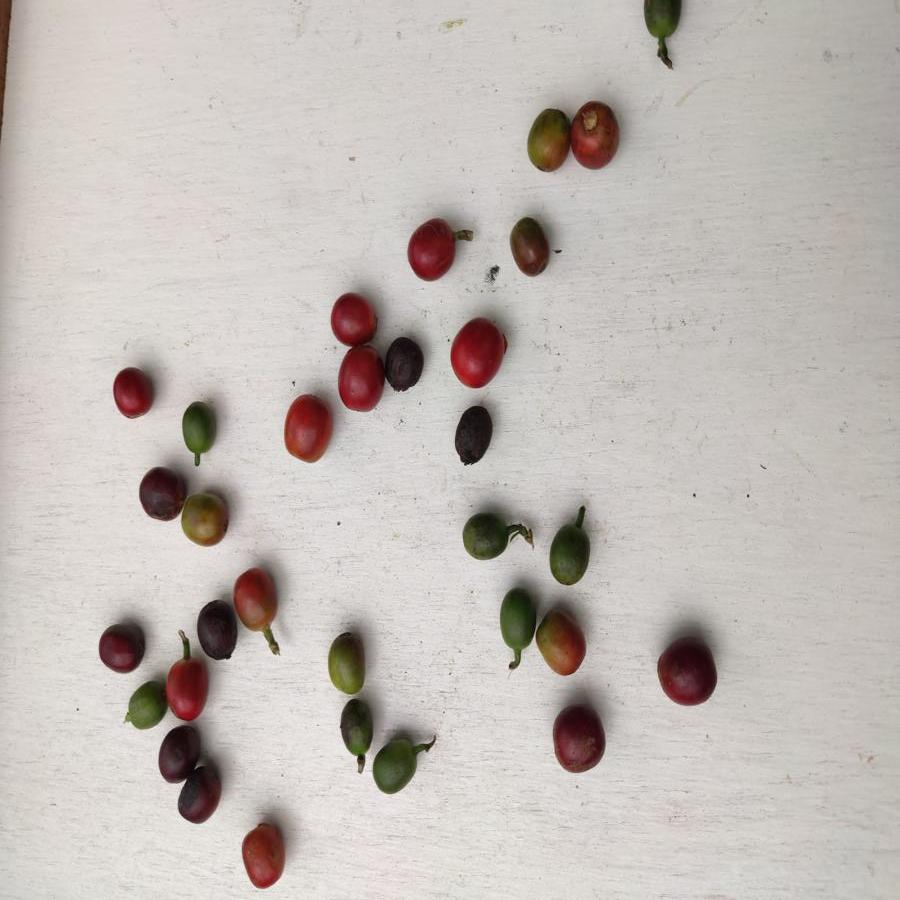Inmaduro: (547, 523, 591, 586), (373, 735, 418, 795), (459, 512, 512, 560), (175, 401, 219, 455), (499, 587, 536, 651), (338, 698, 378, 752), (124, 683, 168, 728), (640, 1, 682, 42)
Maduro: (449, 316, 508, 389), (281, 393, 334, 463), (569, 100, 620, 171), (337, 341, 385, 415), (407, 216, 458, 281), (242, 823, 289, 892), (164, 653, 211, 720), (328, 291, 380, 343), (111, 364, 159, 420)
Pinton: (534, 608, 587, 676), (524, 106, 570, 172), (325, 629, 368, 696), (508, 216, 550, 280), (182, 494, 228, 548)
Sobremaduro: (654, 637, 720, 707), (552, 702, 607, 775), (176, 764, 223, 826), (195, 598, 237, 662), (97, 621, 148, 673), (157, 727, 202, 784), (137, 467, 183, 520), (384, 335, 424, 394), (454, 403, 492, 465)
